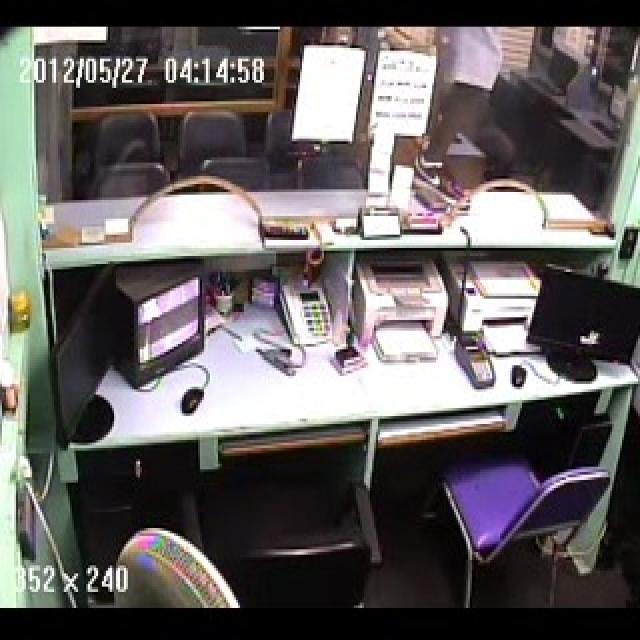thief: (421, 28, 502, 210)
